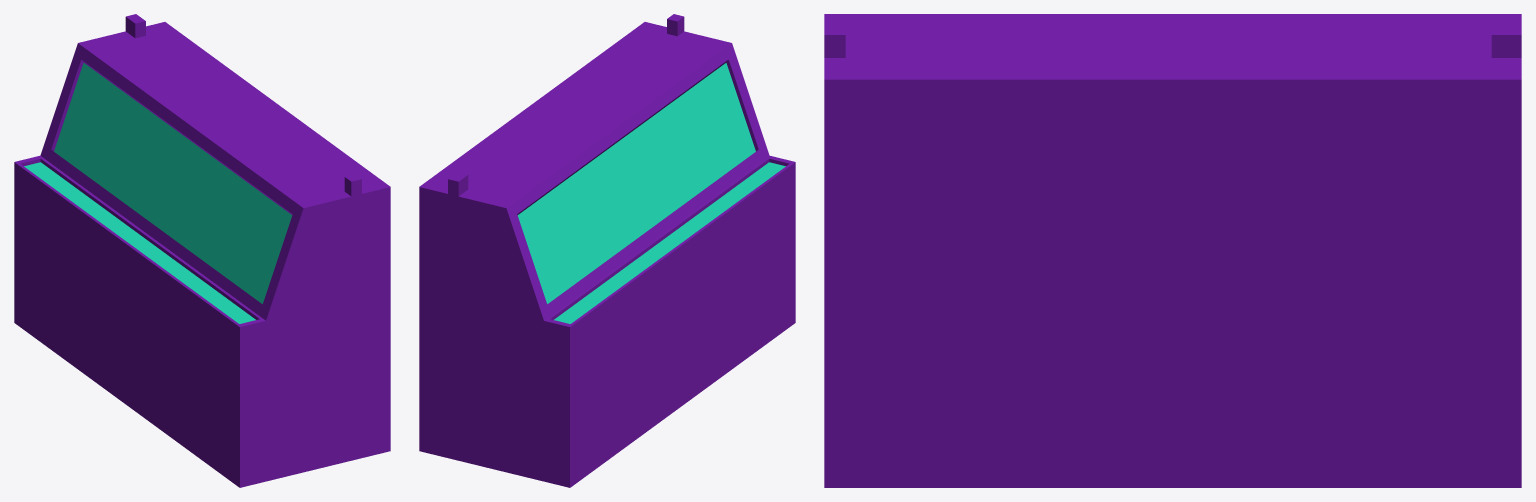
Rendered from HoloConsole.FBX.
3 renders of one model, left to right at view 1: azimuth 30°, elevation 25°; view 2: azimuth 150°, elevation 25°; view 3: azimuth 270°, elevation 25°, orthographic. The views are drawn at different scales.
Parts seen in each view (by area): view 1: Box001; view 2: Box001; view 3: Box001.
Boxes of the visible parts, box(x1,y1,x2,y2) form: Box001: box(14, 14, 390, 487); Box001: box(419, 14, 795, 487); Box001: box(824, 14, 1521, 487).
Bounding box in the file's own units: 12.24 × 21.62 × 31.7.
